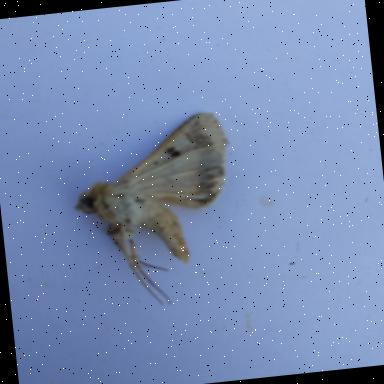abw: (61, 107, 251, 316)
